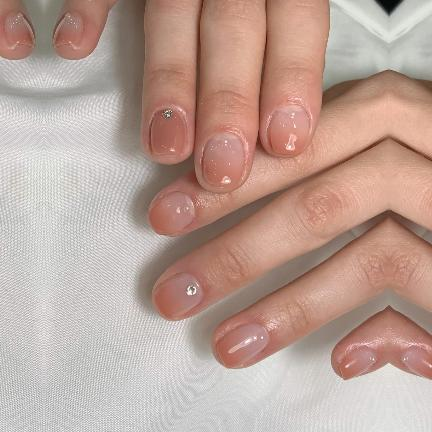Nail: (216, 323, 269, 368), (152, 273, 202, 319), (202, 133, 243, 185), (267, 106, 309, 155), (148, 192, 194, 234), (149, 109, 185, 155), (338, 347, 376, 380), (52, 13, 83, 47), (3, 13, 34, 47), (401, 347, 432, 380)
